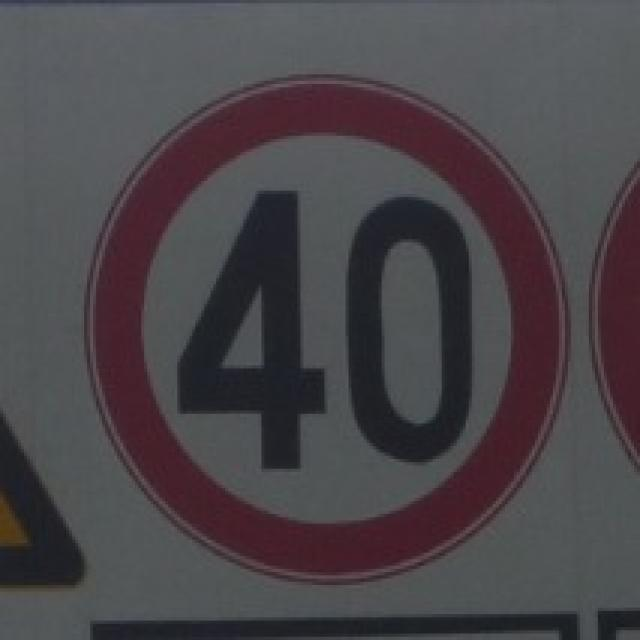Speed Limit -40-: (170, 178, 480, 476)
